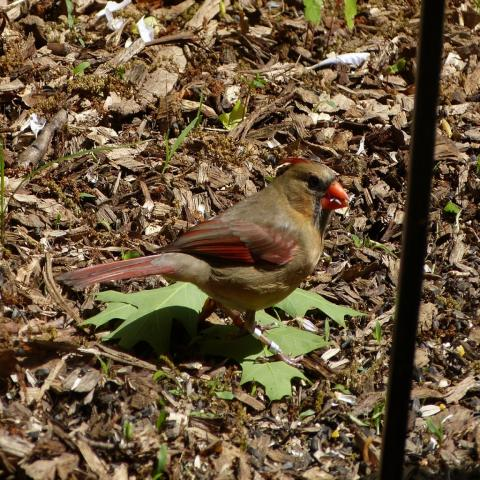bird: (55, 153, 351, 356)
